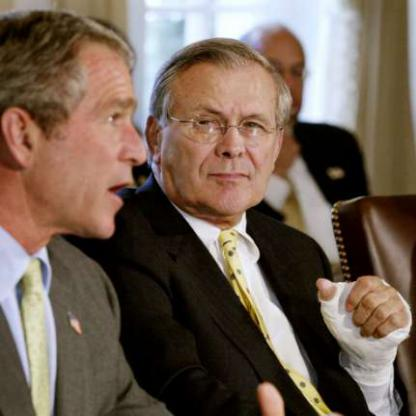face: (32, 27, 161, 242), (160, 39, 287, 222), (239, 27, 311, 128)
